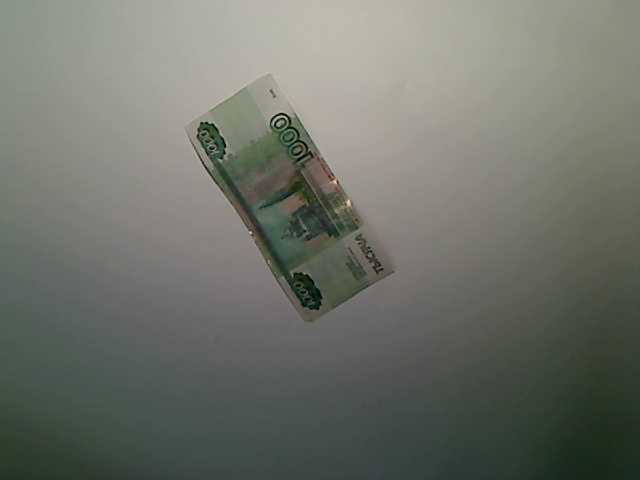banknotes: (183, 72, 397, 326)
